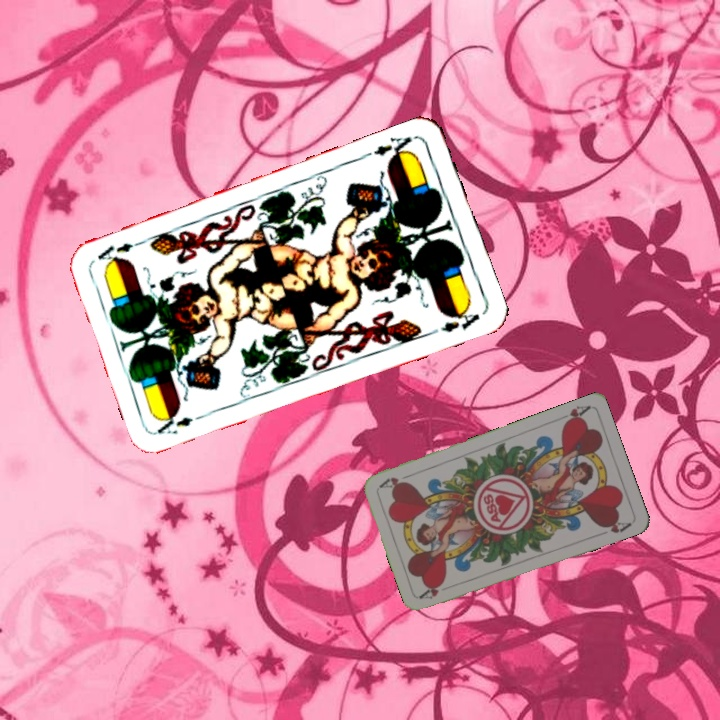EA: (360, 132, 418, 163), (153, 409, 210, 437)
HA: (553, 401, 592, 428), (417, 580, 445, 602)
